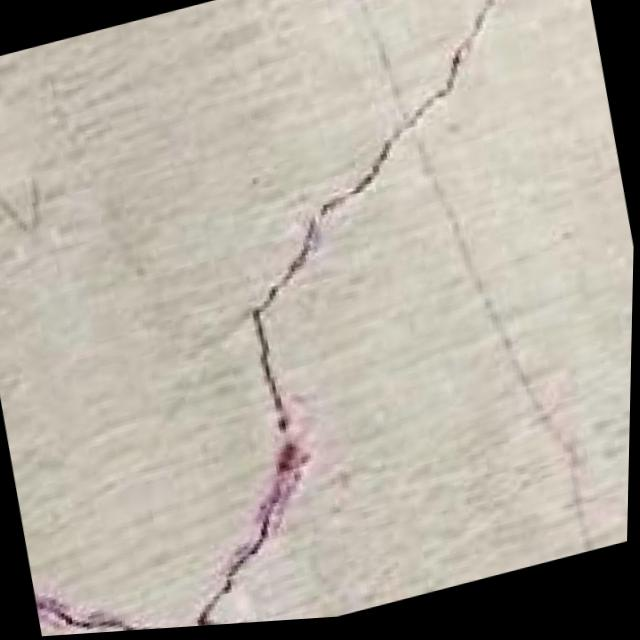Crack: (98, 0, 640, 634), (34, 540, 227, 638)
